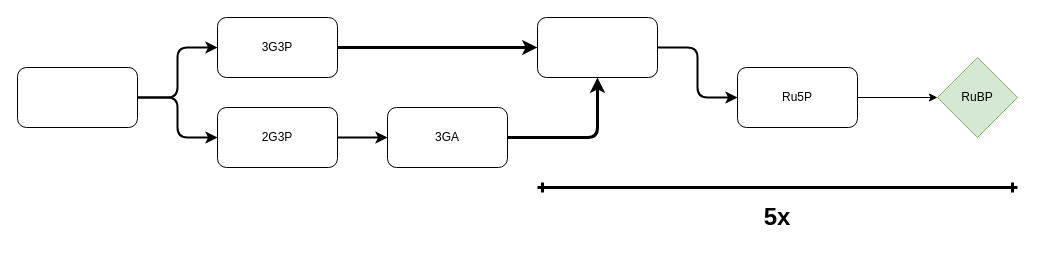
This 1045x265 diagram has some shape labels left out. The box of each missing label's shape, as (x1, y1, x2, y2) in pixels:
5G3P: (16, 66, 138, 128)
Ar5P: (536, 16, 658, 78)
